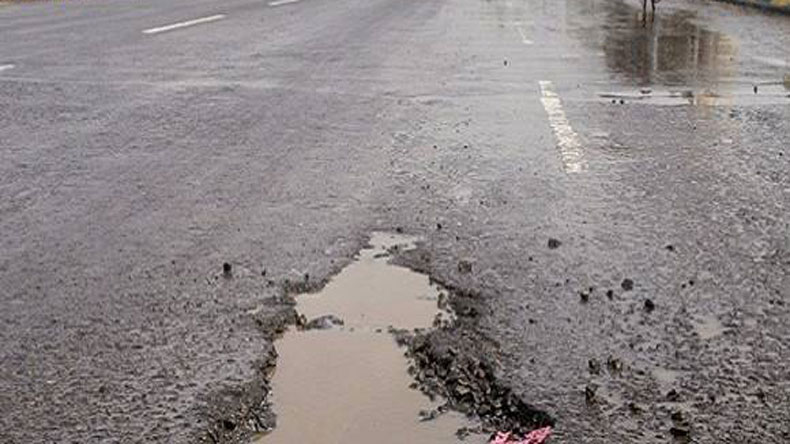pothole: (200, 212, 541, 442)
